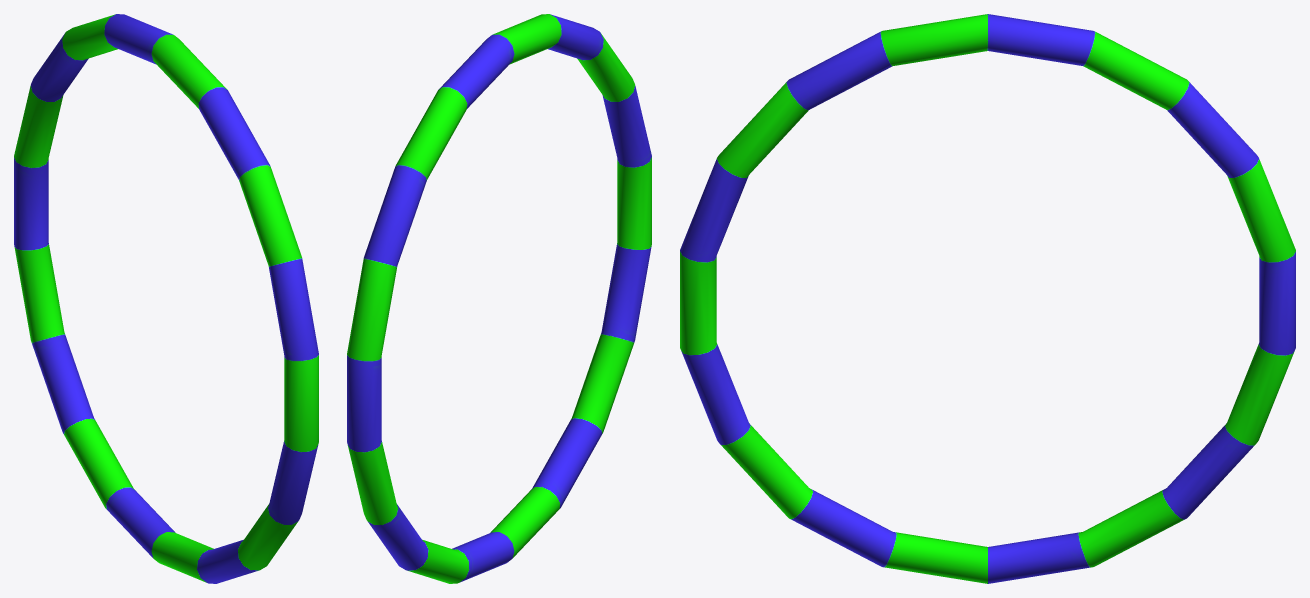
The model's file is Ring.dae.
3 renders of one model, left to right at view 1: azimuth 30°, elevation 25°; view 2: azimuth 150°, elevation 25°; view 3: azimuth 270°, elevation 25°, orthographic. The views are drawn at different scales.
Visible parts, largest first — view 1: Ring; view 2: Ring; view 3: Ring.
Boxes of the visible parts, x1,y1,x2,y2 form: Ring: (14,14,318,583); Ring: (347,14,651,583); Ring: (680,14,1295,583).
Bounding box in the file's own units: 0.5 × 8.29 × 8.42.
1 material, 1 textured.
